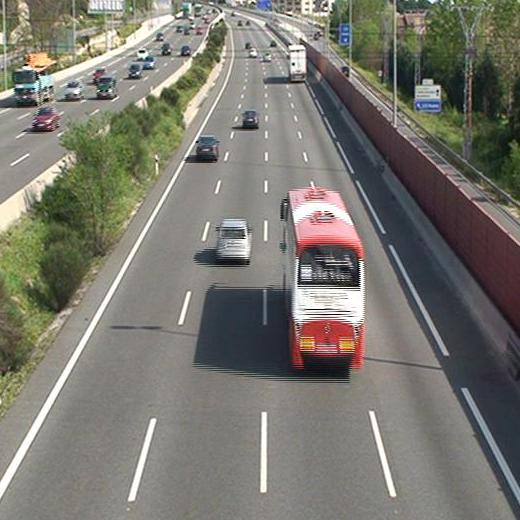bus: (280, 188, 367, 372)
car: (213, 219, 252, 261), (194, 135, 220, 161), (242, 109, 259, 129)
truck: (285, 45, 308, 82)
